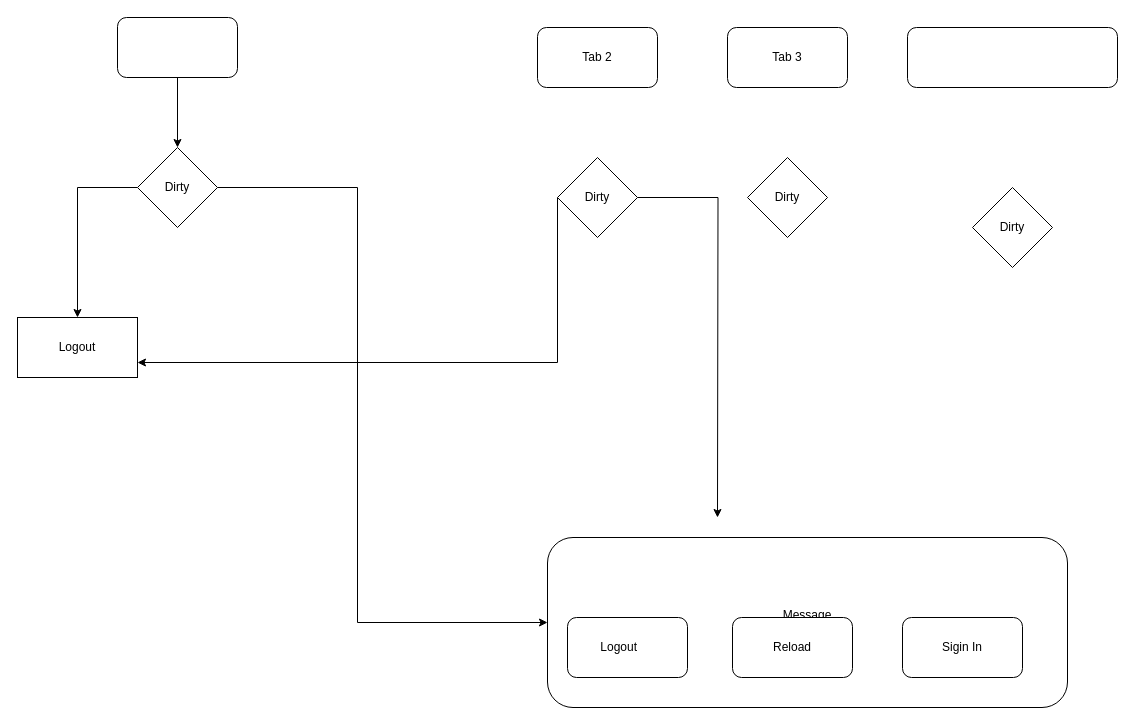
The diagram is 1135 pixels wide and 725 high, and some of its shapes have lost their labels. Here are the shapes that lost their labels. From the top down, the centre of each, then its label:
the point at 177,47: Tab 1
the point at 1012,57: Other Apps (Report Designer, Viewer, etc....)
